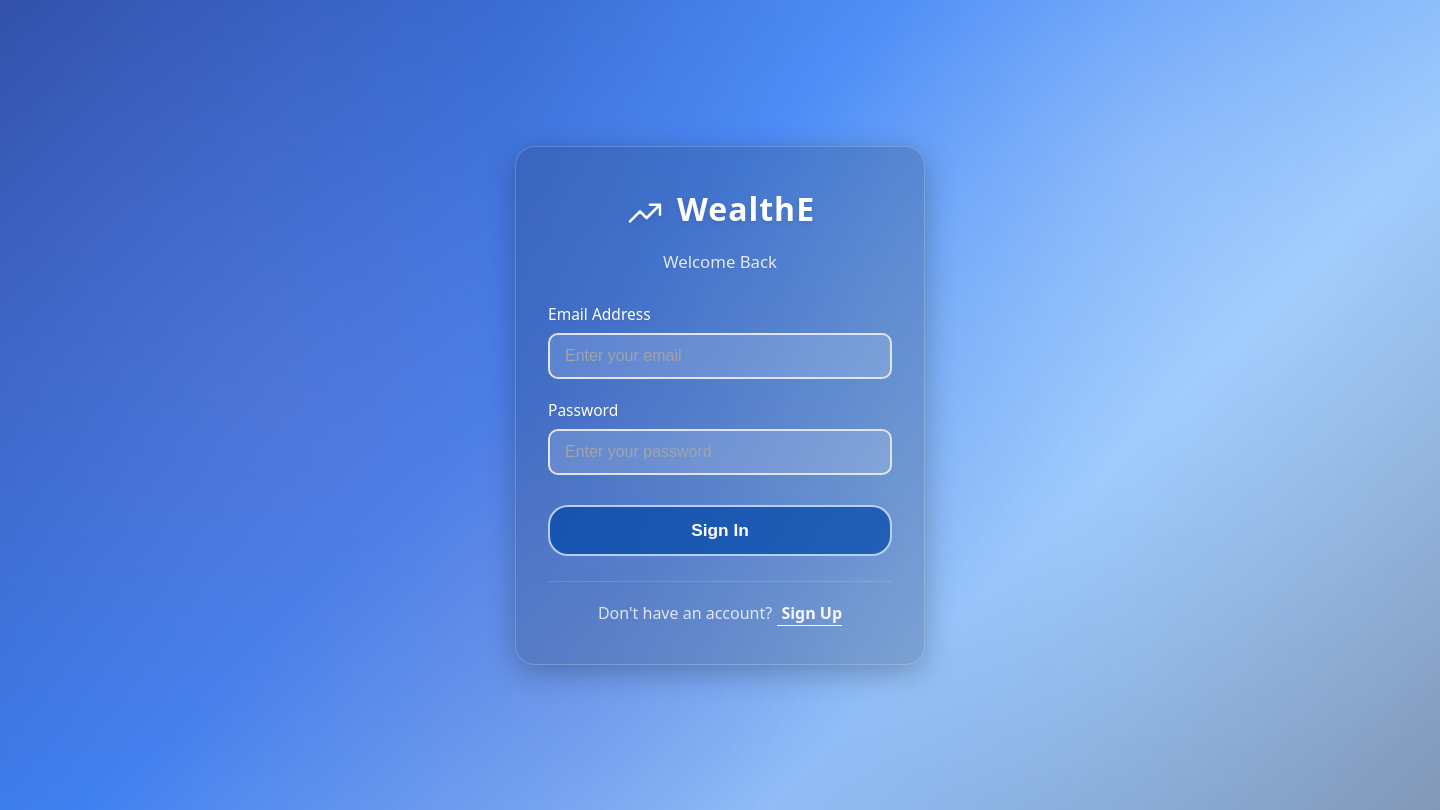
Login Component › handles login failure
The width and height of the screenshot is (1440, 810).
In the field labelled "Email Address": (720, 356) [548,332,892,378], type "test@example.com"
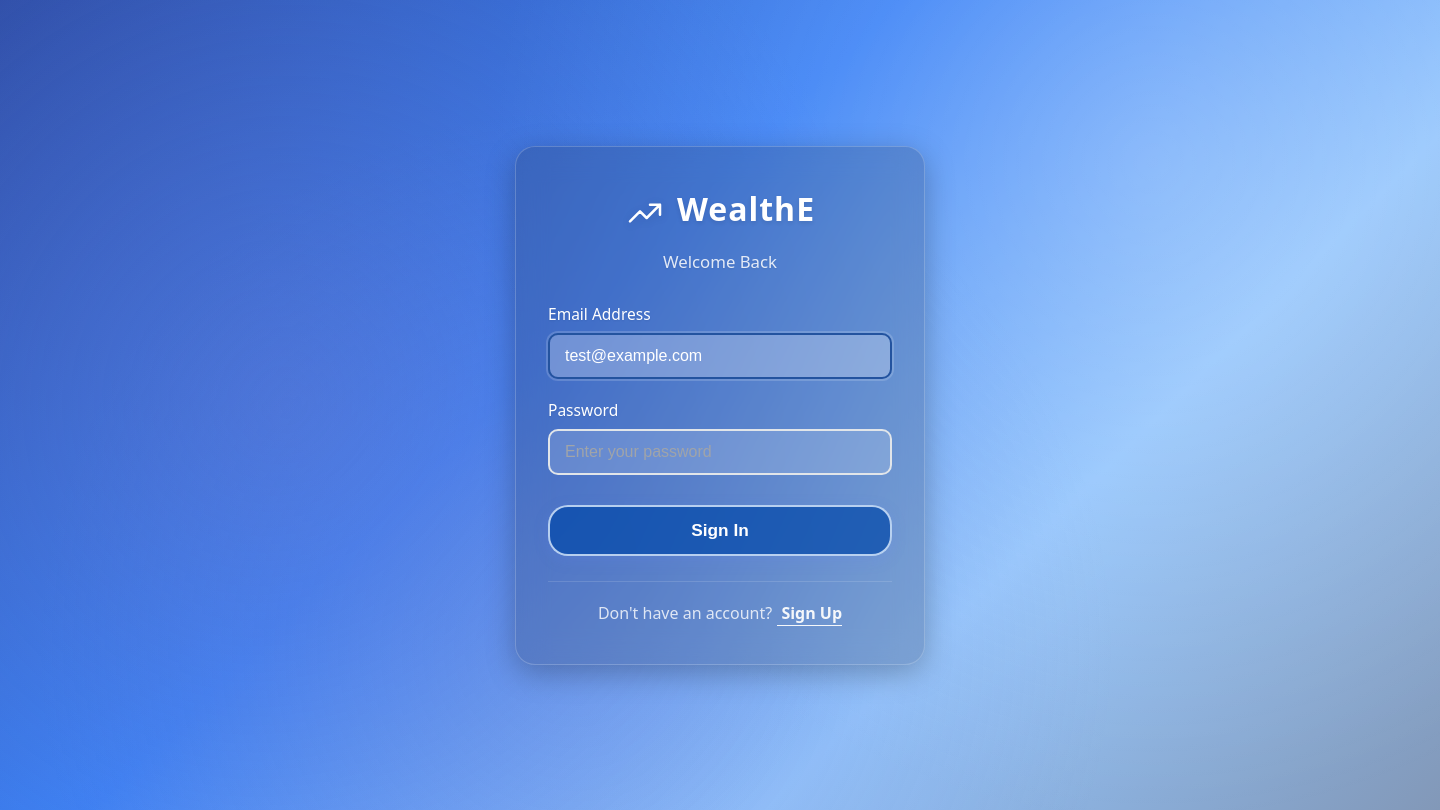
In the password field labelled "Password": (720, 452) [548,428,892,474], type "wrongpassword"
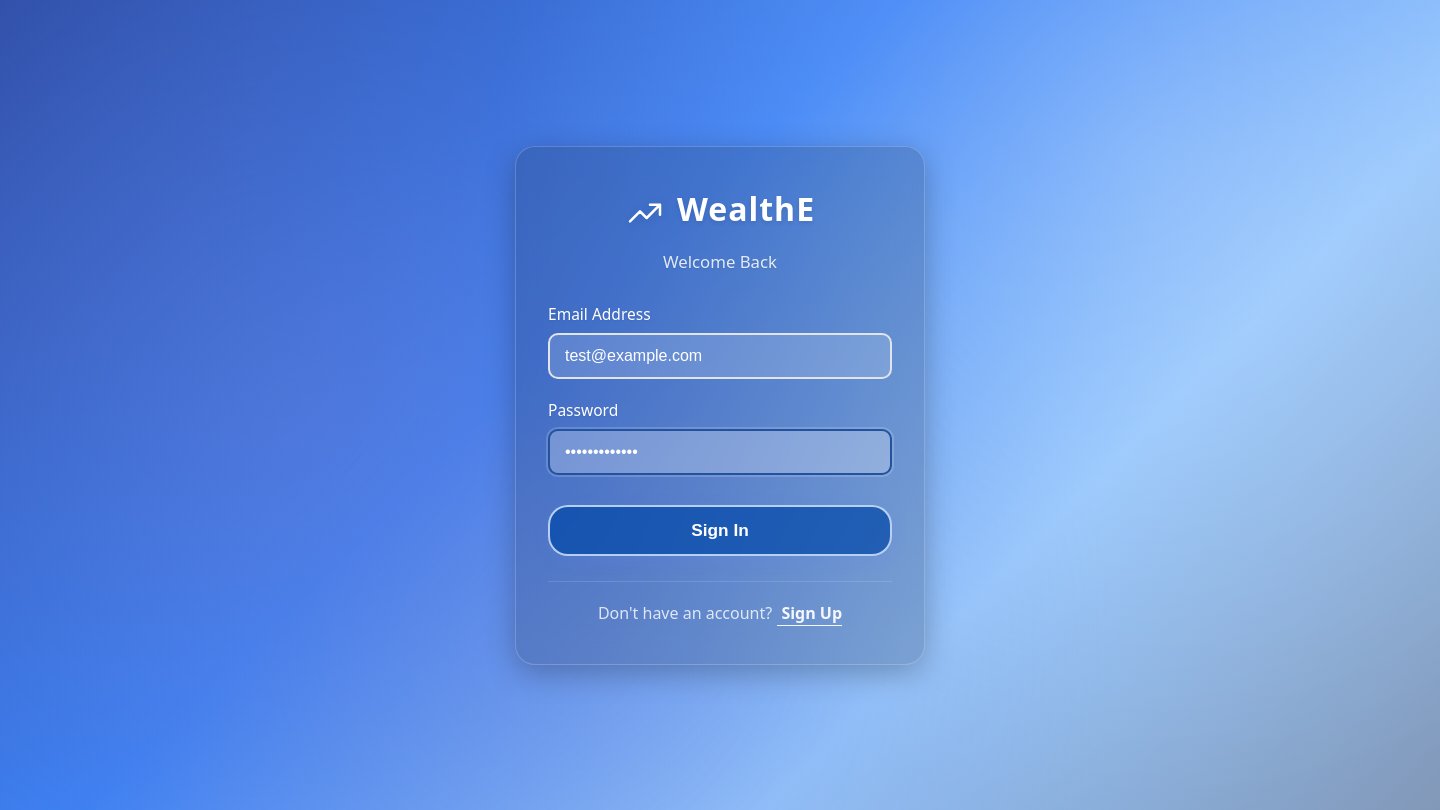
Click the button "Sign In": click(720, 530) [548,504,892,556]
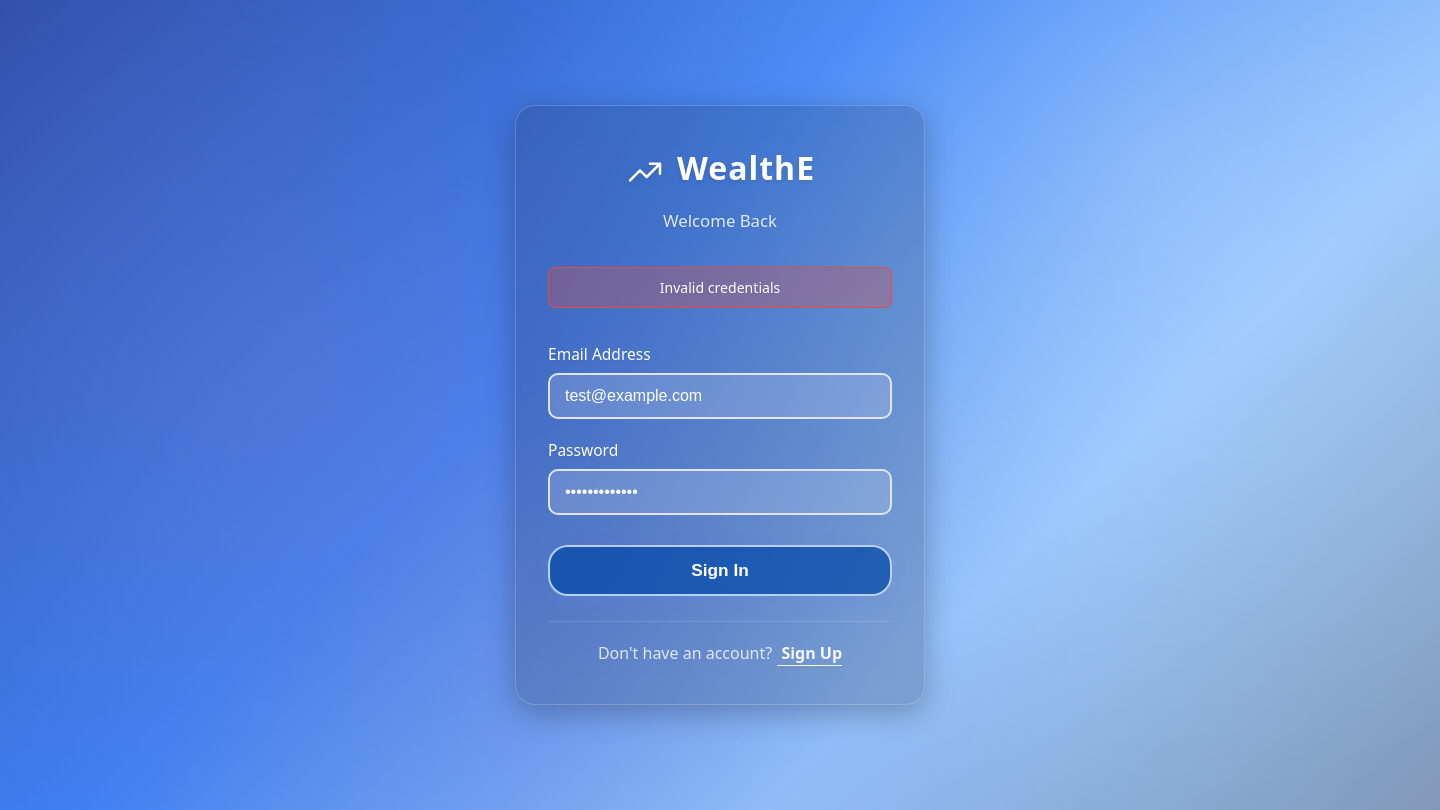
Now the text "Invalid credentials" is shown, box [548,267,892,308]
